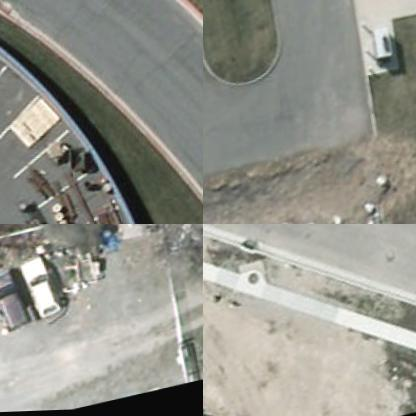car: (18, 249, 65, 323), (0, 261, 36, 338)
